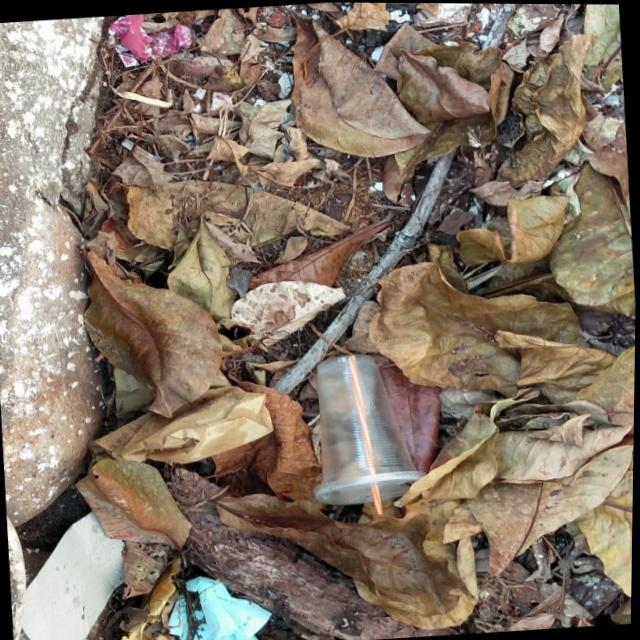Paper: (81, 376, 282, 475), (9, 503, 147, 640), (153, 559, 280, 640), (88, 8, 206, 76)
Plastic: (287, 335, 442, 521)
